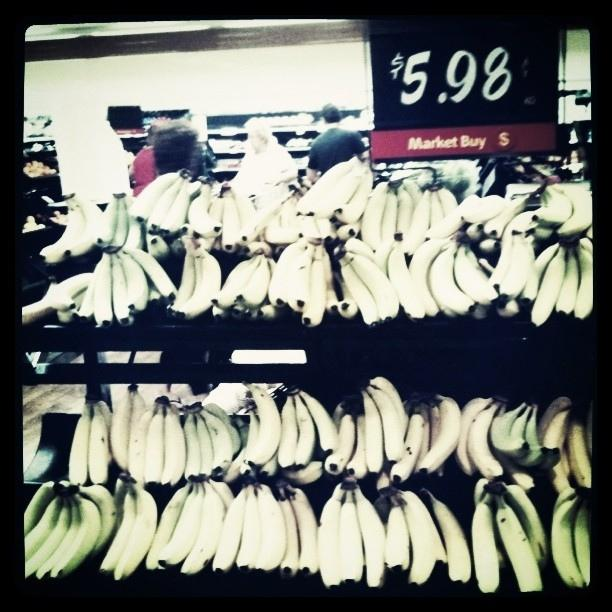banana: (484, 482, 543, 592), (418, 489, 471, 586), (49, 489, 101, 579), (114, 476, 157, 580), (180, 481, 227, 576), (393, 487, 438, 586), (146, 478, 192, 571), (35, 489, 81, 580), (408, 233, 457, 318), (304, 159, 372, 220), (488, 210, 535, 296), (24, 496, 72, 579), (344, 252, 399, 324), (158, 482, 204, 568), (506, 484, 550, 572), (295, 156, 357, 217), (414, 394, 460, 475), (69, 483, 119, 553), (353, 485, 386, 590), (550, 494, 586, 590), (177, 245, 222, 320), (429, 240, 475, 313), (243, 380, 282, 466), (100, 485, 136, 576), (212, 250, 258, 321), (38, 198, 87, 262), (388, 242, 426, 323), (317, 482, 346, 588), (286, 486, 320, 576), (455, 396, 493, 476), (338, 258, 380, 330), (25, 484, 64, 561), (255, 483, 288, 574), (212, 489, 247, 574), (366, 386, 404, 464), (390, 402, 426, 484), (530, 246, 566, 328), (472, 493, 500, 594), (147, 170, 191, 234), (135, 168, 186, 223), (475, 478, 506, 568), (454, 244, 499, 306), (268, 237, 307, 308), (212, 255, 262, 310), (121, 249, 178, 297), (468, 402, 503, 480), (333, 158, 373, 225), (298, 390, 339, 455), (128, 400, 159, 482), (64, 194, 103, 256), (544, 408, 572, 492), (236, 484, 262, 574), (427, 195, 480, 238), (498, 235, 532, 302), (552, 184, 594, 238), (200, 410, 233, 478), (200, 402, 242, 455), (482, 193, 530, 239), (339, 490, 362, 586), (277, 487, 301, 578), (359, 386, 384, 473), (370, 376, 406, 436), (492, 445, 536, 494), (492, 402, 530, 458), (302, 245, 327, 328), (330, 254, 360, 322), (222, 413, 250, 485), (117, 250, 149, 313), (236, 252, 270, 311), (287, 243, 316, 312), (404, 188, 432, 259), (362, 182, 390, 252), (324, 413, 355, 476), (22, 274, 57, 328), (516, 405, 546, 467), (258, 258, 287, 322), (46, 273, 93, 312), (386, 496, 410, 572), (112, 252, 136, 328), (531, 185, 573, 228), (69, 403, 91, 485), (144, 400, 164, 489), (110, 391, 132, 471), (568, 416, 592, 489), (24, 481, 55, 536), (538, 396, 572, 446), (277, 393, 299, 470), (194, 198, 224, 254), (78, 257, 103, 324), (187, 193, 224, 238), (228, 187, 256, 246), (294, 392, 315, 470), (168, 252, 195, 312), (164, 174, 190, 236), (89, 404, 108, 486), (556, 247, 578, 317), (160, 401, 178, 485), (172, 480, 197, 540), (574, 245, 593, 322), (94, 250, 113, 327), (520, 234, 540, 306), (574, 498, 590, 588), (346, 414, 368, 478), (121, 192, 144, 253), (93, 192, 118, 248), (194, 411, 214, 481), (460, 196, 509, 223), (342, 238, 382, 271), (264, 212, 304, 244), (106, 197, 128, 254), (413, 402, 430, 474), (323, 246, 340, 317), (279, 461, 325, 487), (184, 411, 201, 480), (437, 187, 460, 238), (57, 288, 89, 324), (222, 190, 240, 253), (97, 401, 113, 465), (208, 477, 234, 514), (375, 240, 399, 280), (396, 184, 413, 240), (552, 486, 580, 520), (243, 410, 260, 464), (382, 187, 397, 242), (146, 228, 170, 262), (510, 406, 532, 440), (244, 294, 269, 322), (114, 478, 126, 532), (144, 270, 163, 304), (314, 219, 338, 244), (336, 218, 361, 242), (403, 179, 423, 208), (303, 216, 323, 244), (431, 190, 446, 226), (191, 250, 203, 295), (374, 494, 390, 526), (495, 298, 520, 318), (259, 452, 278, 478), (280, 198, 298, 225), (430, 402, 440, 450), (403, 392, 422, 416), (524, 226, 556, 240), (245, 242, 272, 258), (376, 470, 392, 496), (230, 298, 248, 320), (334, 401, 346, 432), (478, 238, 501, 254), (166, 236, 184, 254), (466, 222, 484, 240), (470, 305, 487, 320), (580, 237, 592, 256), (180, 224, 195, 236), (587, 224, 592, 238)
